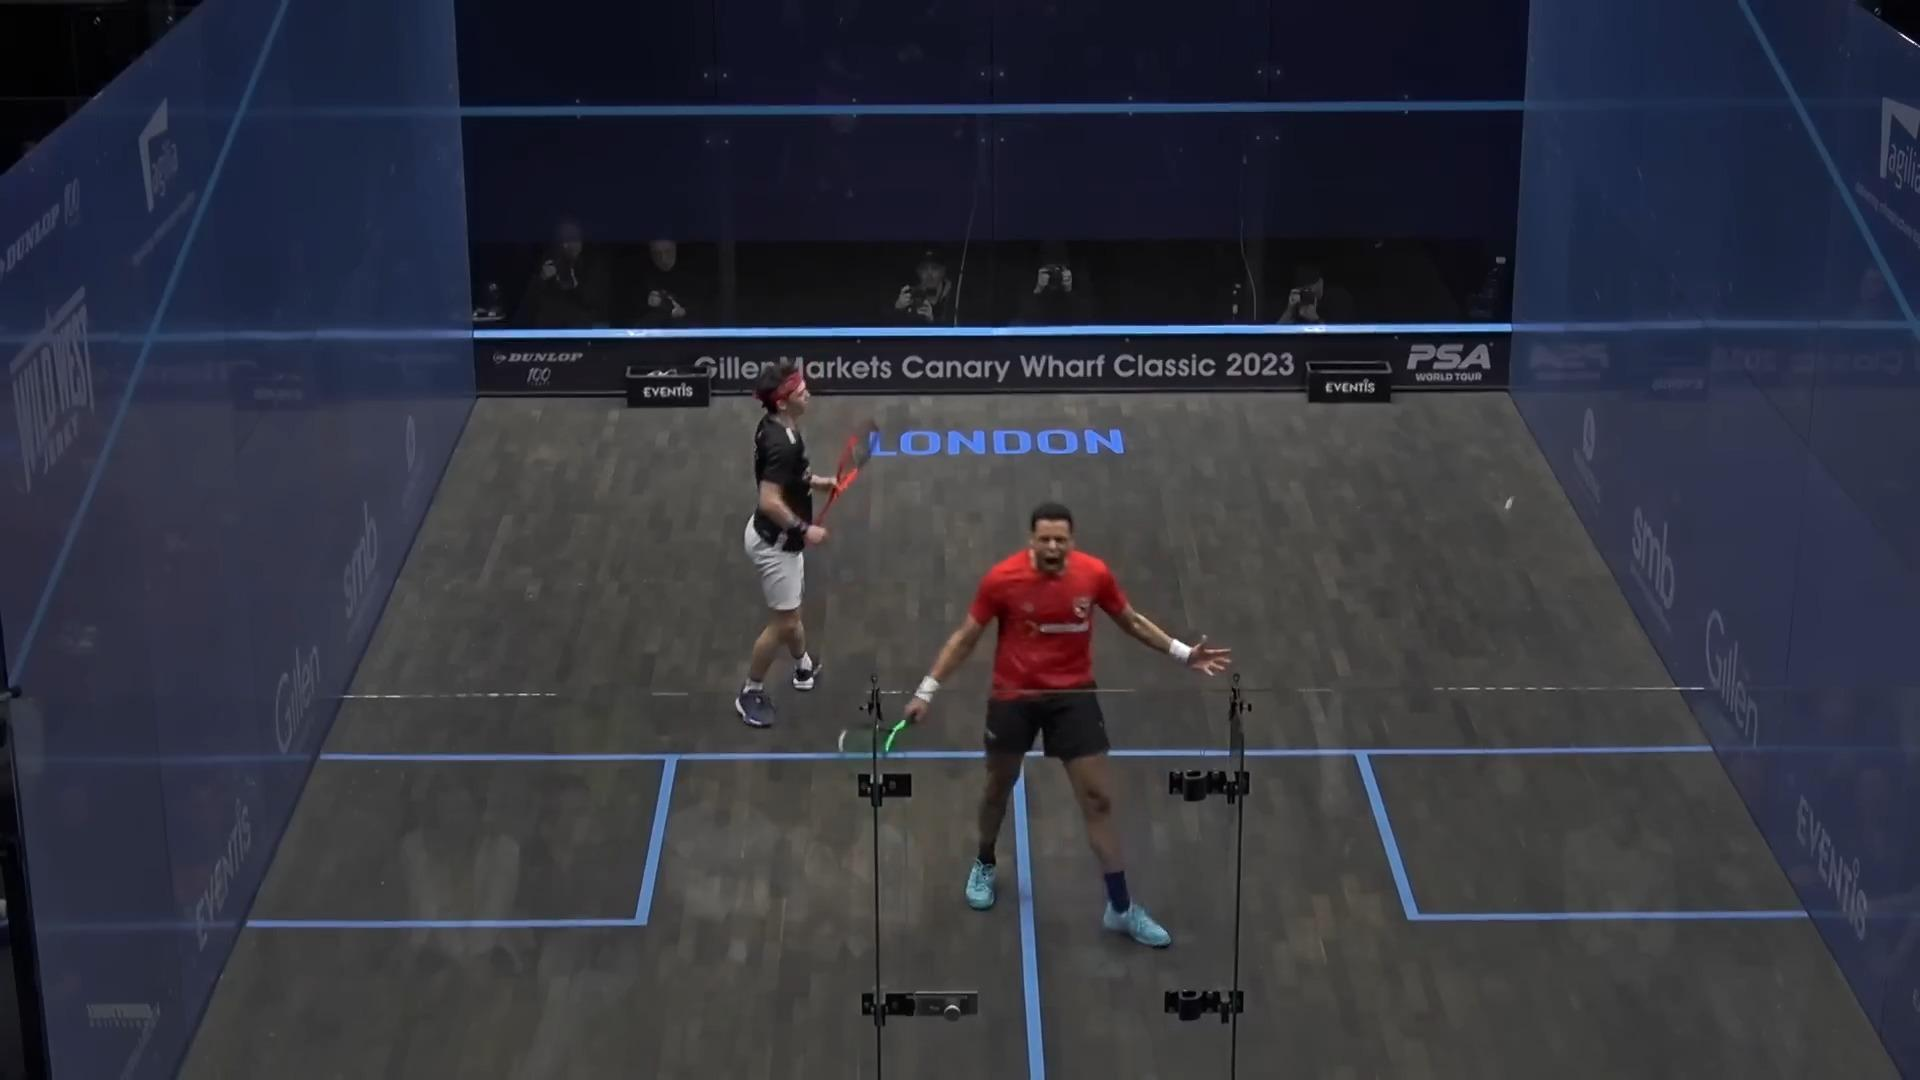Racket: (820, 413, 881, 530)
